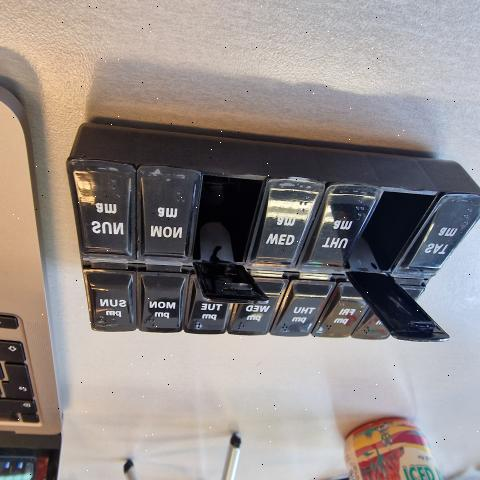Open: (349, 193, 448, 340), (194, 172, 268, 303)
